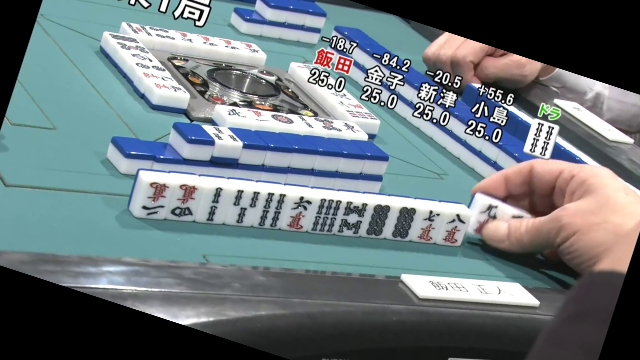Tehai: (123, 166, 475, 253)
